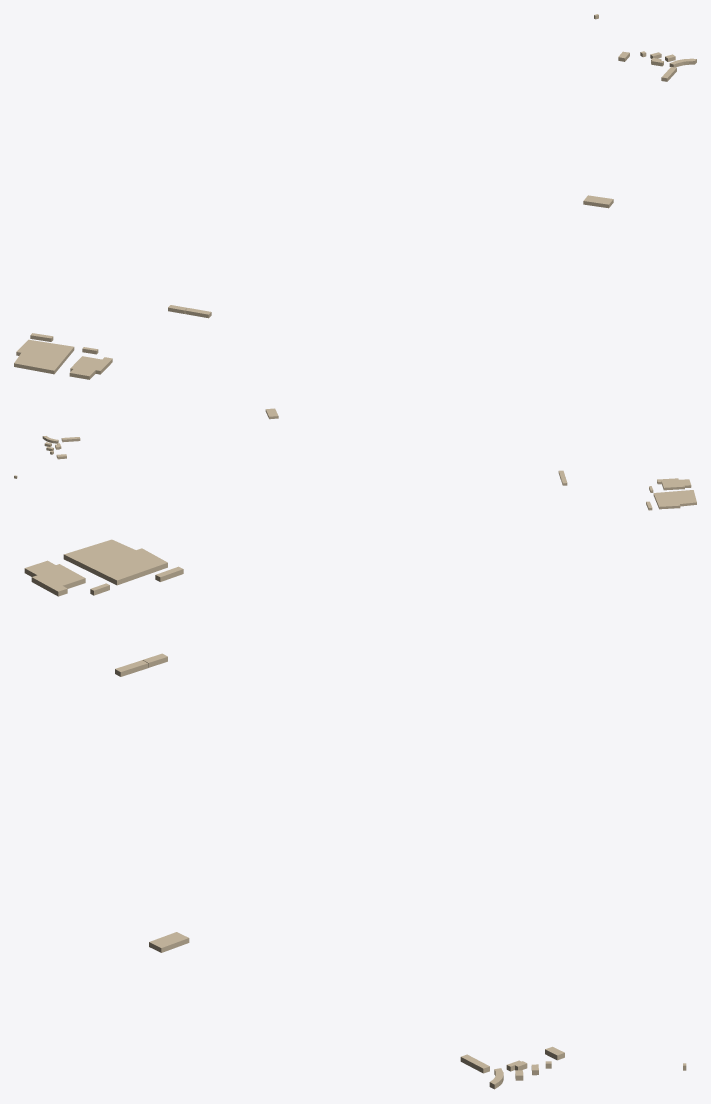
The model's file is overview-estimated--5_8.glb.
3 renders of one model, top to bottom at view 1: azimuth 30°, elevation 25°; view 2: azimuth 150°, elevation 25°; view 3: azimuth 270°, elevation 25°, orthographic. The views are drawn at different scales.
Size of the model in its own units: 2861 by 12.34 by 1468.
